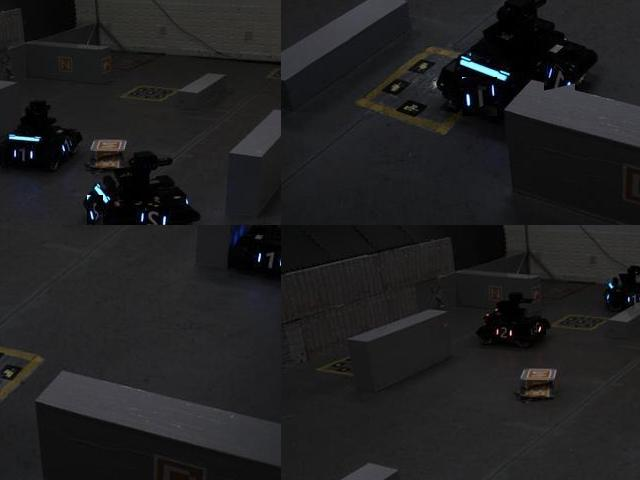armor: (462, 77, 498, 117), (545, 64, 577, 96), (248, 246, 280, 274), (136, 206, 171, 224), (9, 143, 36, 165), (87, 195, 105, 224), (53, 135, 76, 157), (493, 324, 515, 343), (531, 321, 547, 337), (624, 293, 639, 307)
